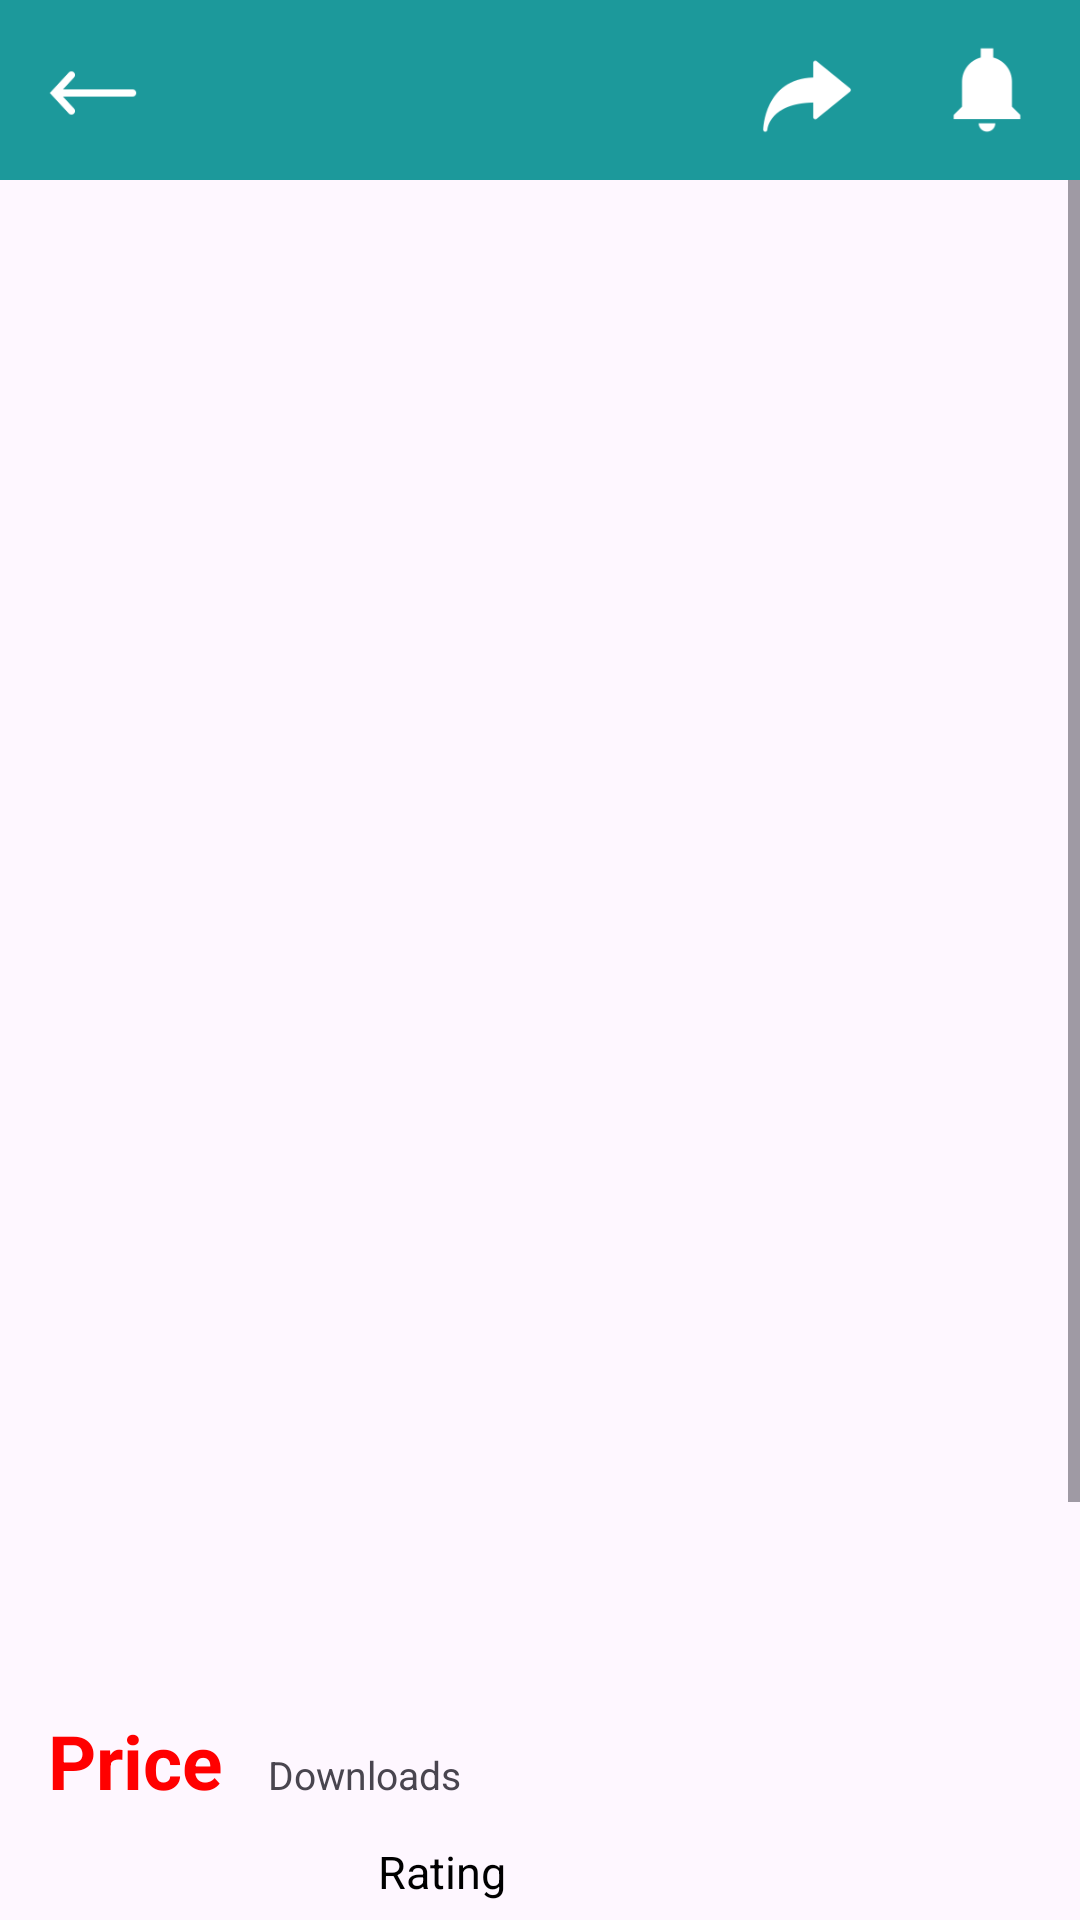

Where icons sit on this 1080 × 1920 app screen, as [x1,y1,x2,y2]:
back: [50,71,137,115]
bell: [953,48,1021,132]
share: [763,60,851,132]
